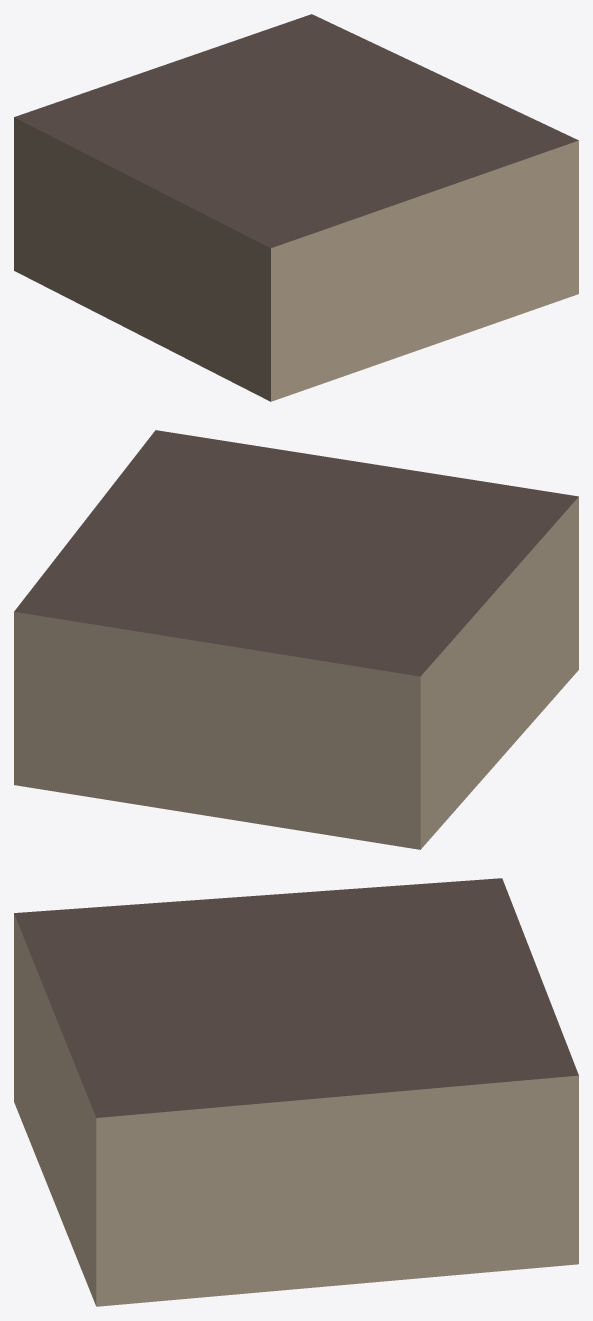
3 views of the same model, one above another, from view 1: azimuth 30°, elevation 25°; view 2: azimuth 150°, elevation 25°; view 3: azimuth 270°, elevation 25° (orthographic). The views are drawn at different scales.
Parts seen in each view (by area): view 1: HP-w756797972; view 2: HP-w756797972; view 3: HP-w756797972.
Boxes of the visible parts, x1,y1,x2,y2 form: HP-w756797972: (14, 14, 578, 401); HP-w756797972: (14, 430, 578, 849); HP-w756797972: (14, 878, 578, 1306).
Bounding box in the file's own units: 24.53 × 9 × 24.41.
